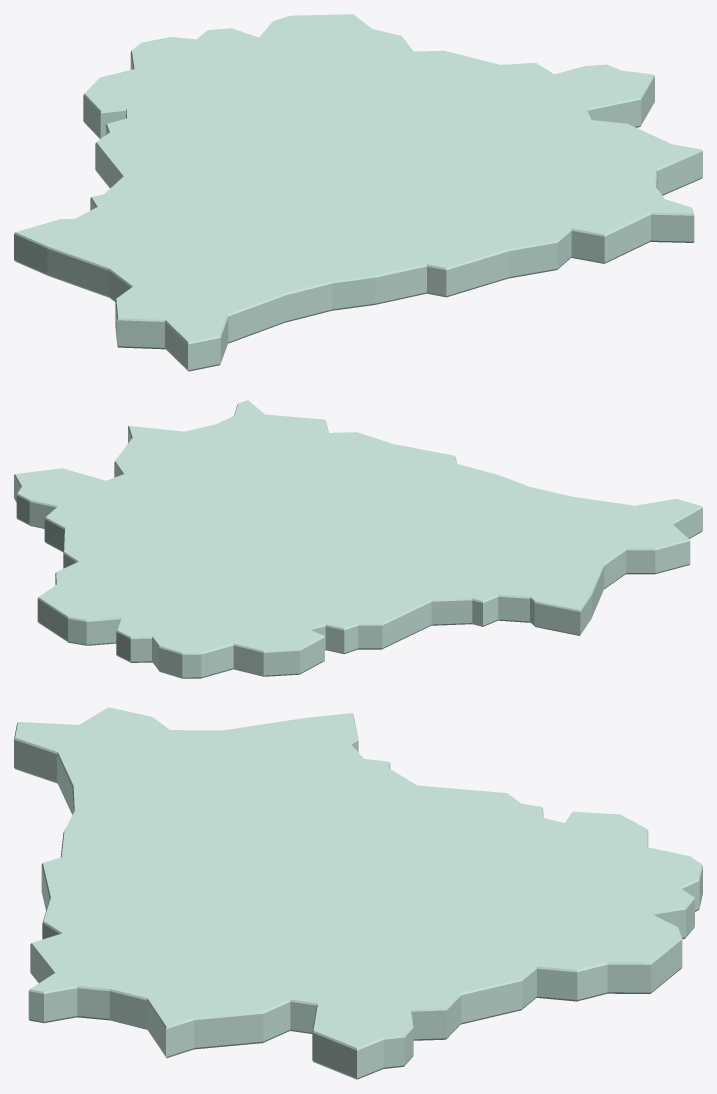
File: BLR.glb
3 renders of one model, top to bottom at view 1: azimuth 30°, elevation 25°; view 2: azimuth 150°, elevation 25°; view 3: azimuth 270°, elevation 25°, orthographic. The views are drawn at different scales.
Size of the model in its own units: 1.58 by 0.068 by 1.35.
